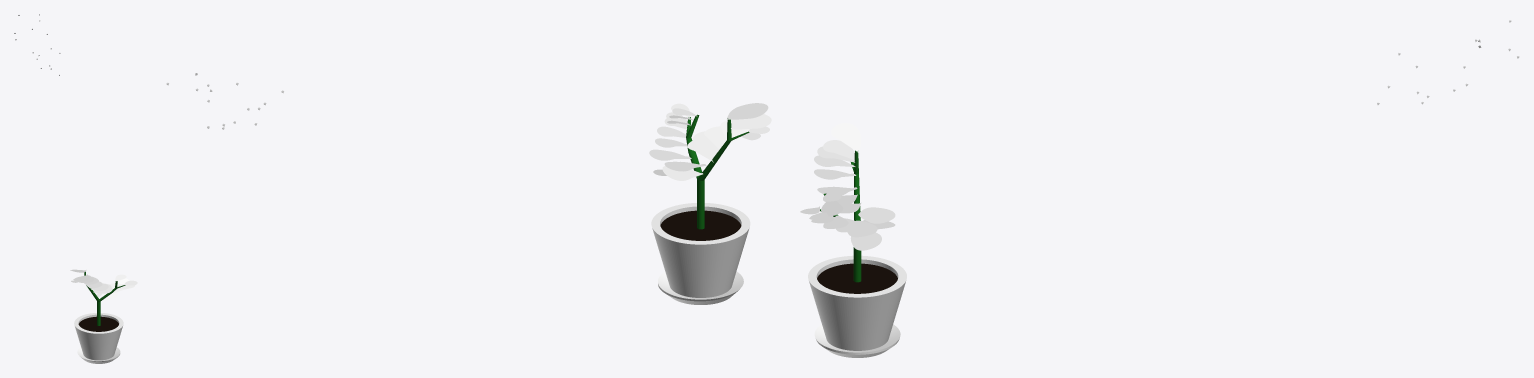
Rendered from plant1.glb.
3 views of the same model, side by side, from view 1: azimuth 30°, elevation 25°; view 2: azimuth 150°, elevation 25°; view 3: azimuth 270°, elevation 25° (orthographic). The views are drawn at different scales.
Visible parts, largest first — view 1: plant; view 2: plant, leaf.015; view 3: plant, leaf.015.
Boxes of the visible parts, x1,y1,x2,y2 form: plant: (74, 272, 125, 363); plant: (651, 114, 750, 304); leaf.015: (727, 103, 768, 119); plant: (808, 150, 906, 357); leaf.015: (831, 123, 860, 152).
Size of the model in its own units: 9.58 by 13.74 by 22.14.
